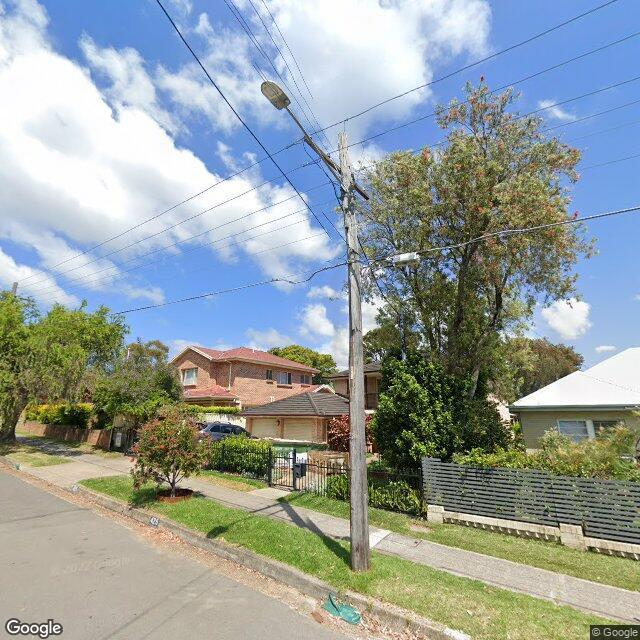crossarm: (304, 135, 369, 200)
streetlight: (260, 81, 350, 193)
timber-pole: (338, 132, 372, 574)
